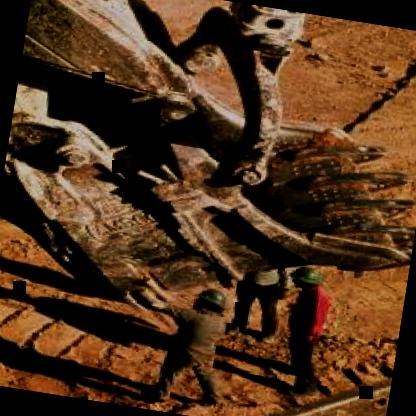helmet: (286, 262, 326, 294), (190, 285, 231, 315)
